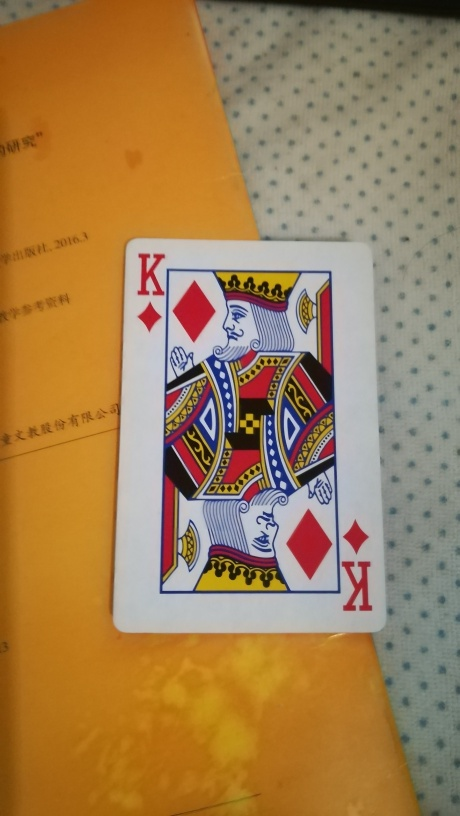fk k: (111, 237, 389, 632)
